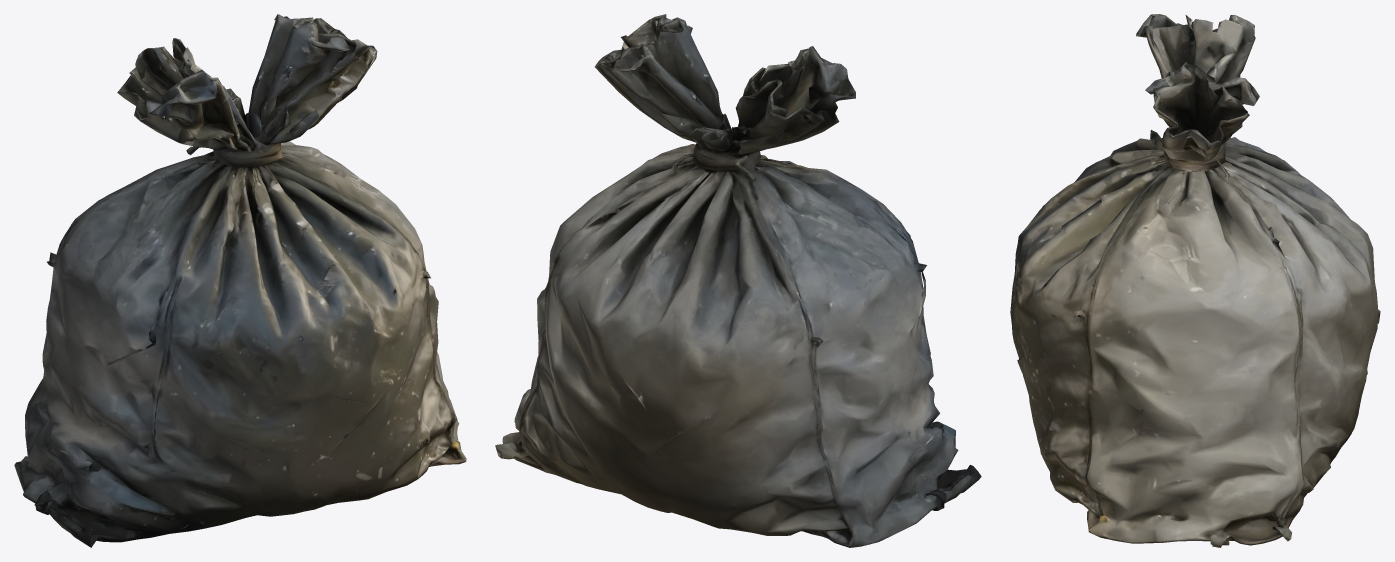
The model's file is garbage_bag_b.glb.
3 views of the same model, side by side, from view 1: azimuth 30°, elevation 25°; view 2: azimuth 150°, elevation 25°; view 3: azimuth 270°, elevation 25° (orthographic). The views are drawn at different scales.
Parts seen in each view (by area): view 1: garbage_bag_b / mesh; view 2: garbage_bag_b / mesh; view 3: garbage_bag_b / mesh.
Part boxes in pixels (box(x1,y1,x2,y2)): garbage_bag_b / mesh: box(14, 14, 466, 547); garbage_bag_b / mesh: box(495, 14, 981, 547); garbage_bag_b / mesh: box(1010, 14, 1380, 547).
Bounding box in the file's own units: 0.64 × 0.6394 × 0.5056.
1 material, 1 textured.
